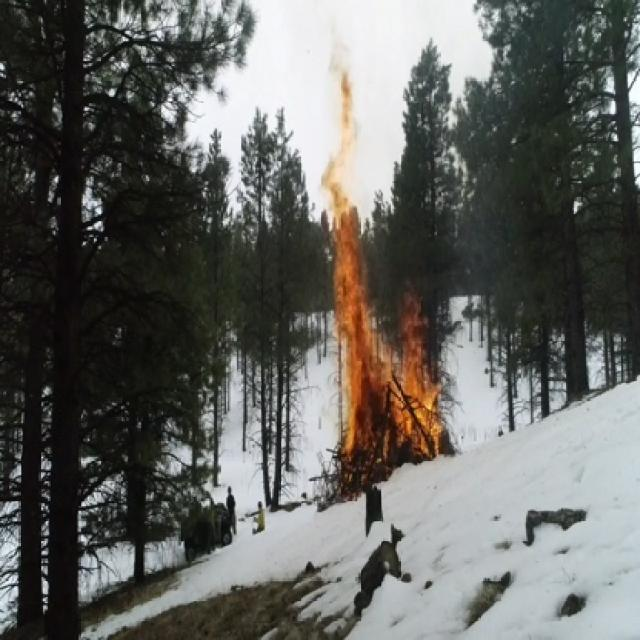Fire: (316, 32, 450, 490)
